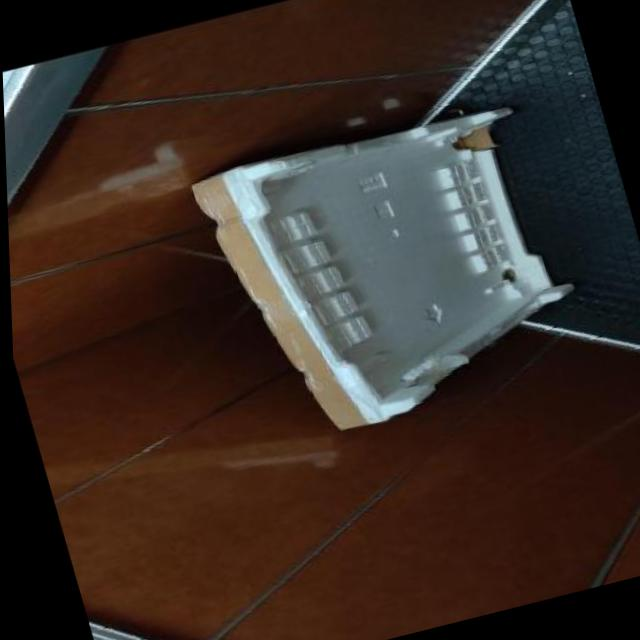foam: (175, 94, 603, 452)
